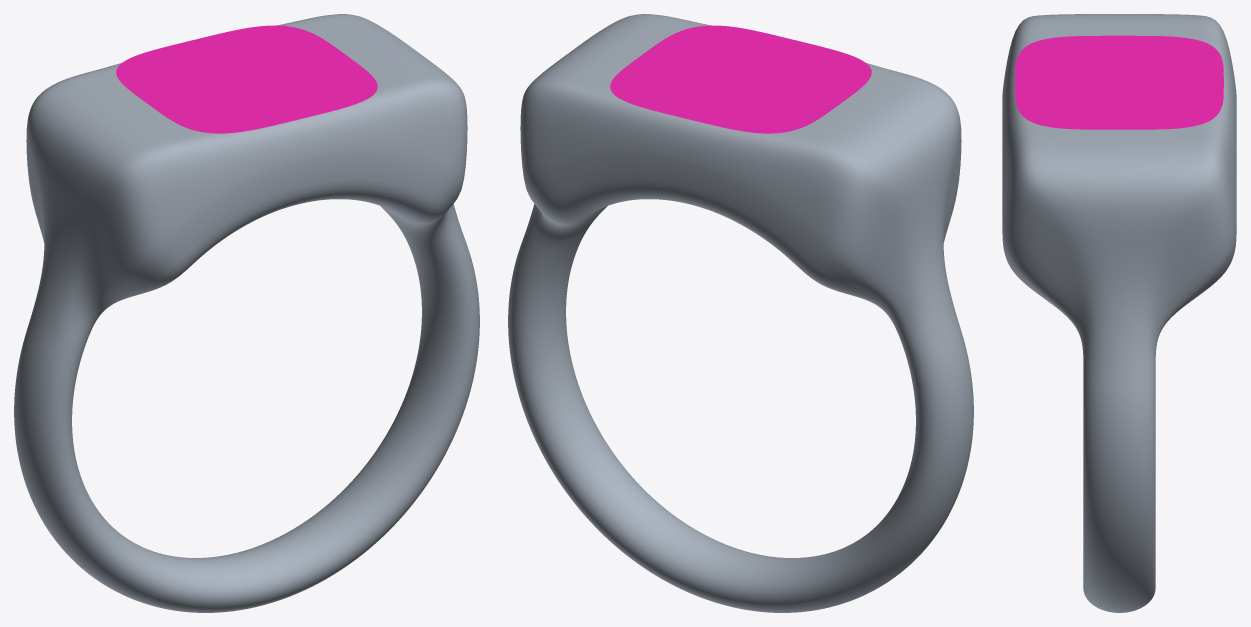
Rendered from mountain_signet_body.glb.
3 renders of one model, left to right at view 1: azimuth 30°, elevation 25°; view 2: azimuth 150°, elevation 25°; view 3: azimuth 270°, elevation 25°, orthographic. The views are drawn at different scales.
Visible parts, largest first — view 1: RING_BODY, RELIEF_SOCKET; view 2: RING_BODY, RELIEF_SOCKET; view 3: RING_BODY, RELIEF_SOCKET.
Part boxes in pixels (x1=…): RING_BODY: x1=14, y1=14, x2=479, y2=612; RELIEF_SOCKET: x1=116, y1=25, x2=377, y2=133; RING_BODY: x1=508, y1=14, x2=973, y2=612; RELIEF_SOCKET: x1=610, y1=25, x2=871, y2=133; RING_BODY: x1=1002, y1=14, x2=1236, y2=612; RELIEF_SOCKET: x1=1015, y1=35, x2=1223, y2=129.
Bounding box in the file's own units: 0.0224 × 0.0248 × 0.0104.
